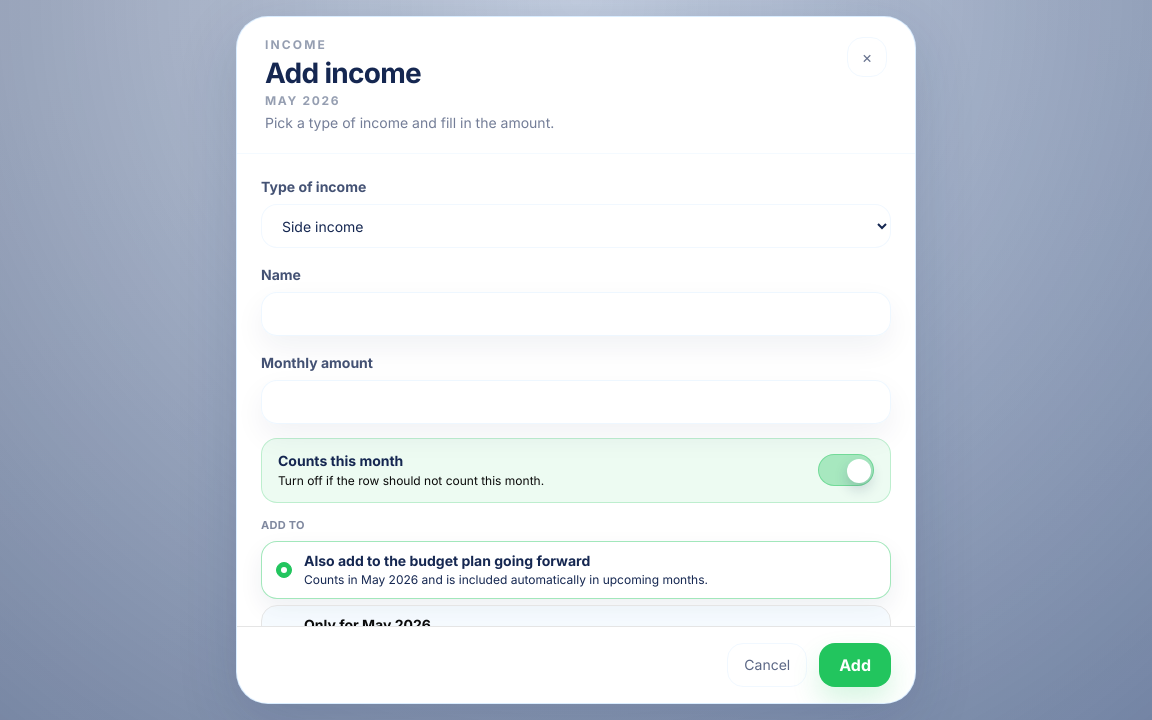
Test: IncomeItemModal › create preview keeps scope independent of the current-month active toggle
This screenshot has width=1152, height=720.
What coordinates should you click on to do the following:
click the switch with test id "income-item-modal-active-toggle"
I would click on:
 (341, 460)
Its box is [261,438,891,502].
(page scrolled)
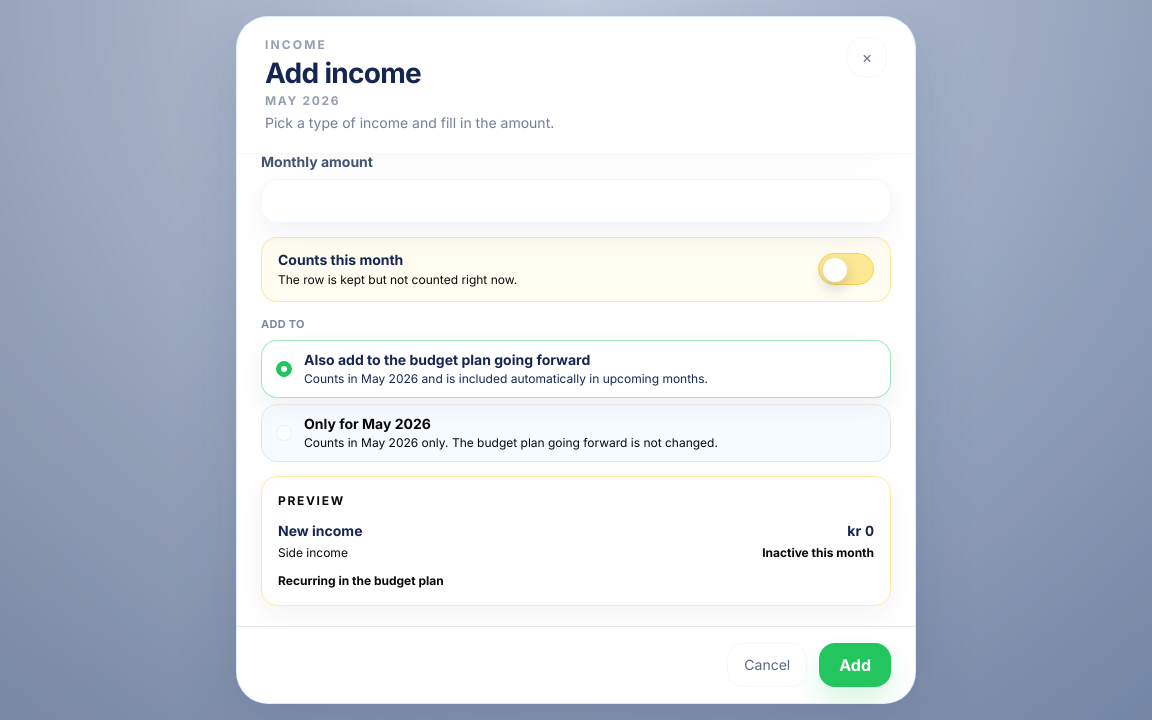
Expected: the text "Inactive this month" is shown, [762,545,874,561]
Expected: the text with test id "income-item-modal-preview-scope" reads "Recurring in the budget plan", [278,573,444,588]
